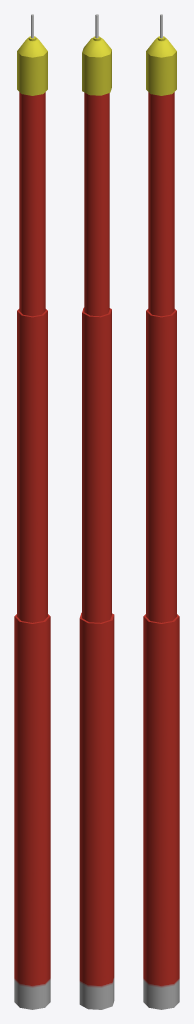
File: gandianqi.FBX
3 renders of one model, left to right at view 1: azimuth 90°, elevation 25°; view 2: azimuth 150°, elevation 25°; view 3: azimuth 270°, elevation 25°, orthographic.
Bounding box in the file's own units: 6.06 × 183 × 6.06.
